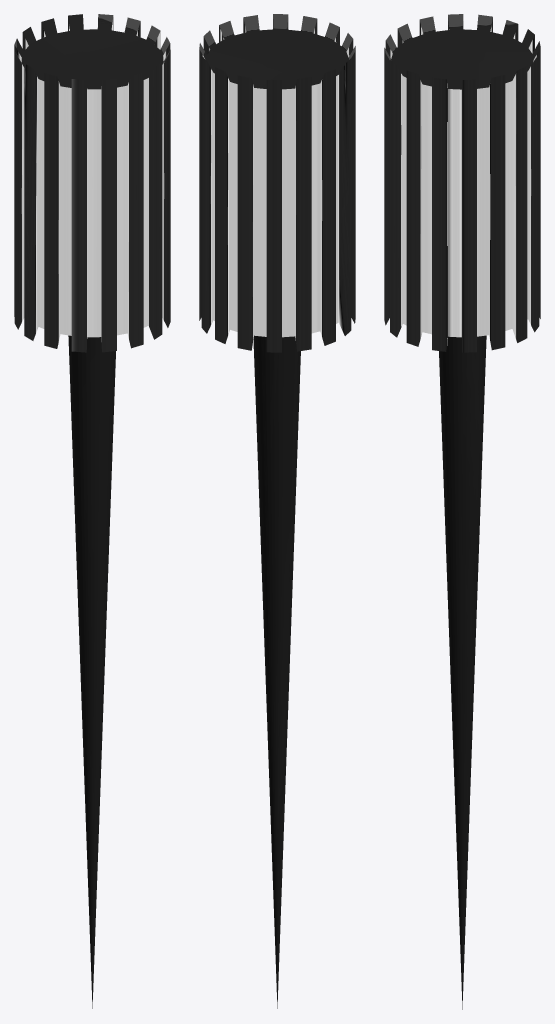
File: Lampara1.obj
The picture shows the model from 3 angles, left to right: view 1: azimuth 30°, elevation 25°; view 2: azimuth 150°, elevation 25°; view 3: azimuth 270°, elevation 25°; orthographic projection.
Visible parts, largest first — view 1: Cone_008; view 2: Cone_008; view 3: Cone_008.
Boxes of the visible parts, left/top/right/bottom form: Cone_008: left=14, top=14, right=170, bottom=1008; Cone_008: left=199, top=14, right=355, bottom=1008; Cone_008: left=384, top=14, right=540, bottom=1009.
Size of the model in its own units: 0.1773 by 1.2 by 0.1772.
